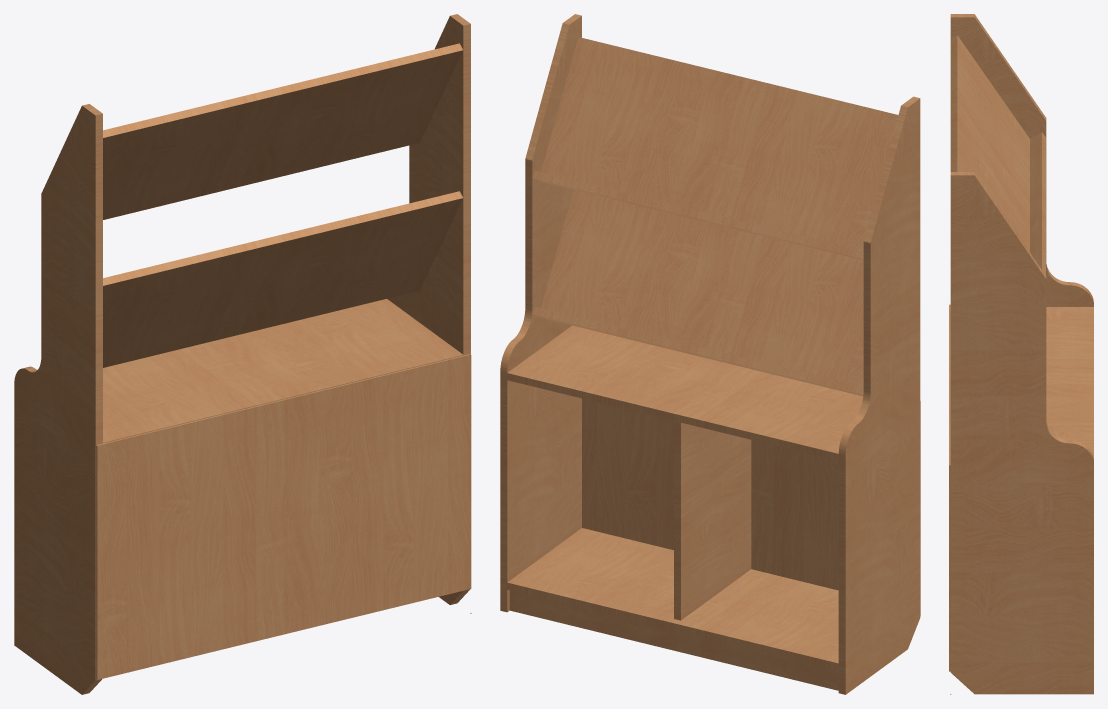
File: vitrina_knizhnaja_1_storonnjaja_s_tumboj_2_polki.glb
3 renders of one model, left to right at view 1: azimuth 30°, elevation 25°; view 2: azimuth 150°, elevation 25°; view 3: azimuth 270°, elevation 25°, orthographic. The views are drawn at different scales.
Visible parts, largest first — view 1: Shape_IndexedFaceSet.004_NON, Shape_IndexedFaceSet.006, Shape_IndexedFaceSet.002, Shape_IndexedFaceSet.003, Shape_IndexedFaceSet.008, Shape_IndexedFaceSet.005; view 2: Shape_IndexedFaceSet.002, Shape_IndexedFaceSet.003, Shape_IndexedFaceSet.006, Shape_IndexedFaceSet.004_NON, Shape_IndexedFaceSet.005, Shape_IndexedFaceSet.008, Shape_IndexedFaceSet.007, Shape_IndexedFaceSet.009, Shape_IndexedFaceSet.010, Shape_IndexedFaceSet.001, Shape_IndexedFaceSet; view 3: Shape_IndexedFaceSet.005, Shape_IndexedFaceSet.002, Shape_IndexedFaceSet.008, Shape_IndexedFaceSet.006, Shape_IndexedFaceSet, Shape_IndexedFaceSet.004_NON.
Boxes of the visible parts, x1=… form: Shape_IndexedFaceSet.004_NON: x1=96, y1=354, x2=471, y2=679; Shape_IndexedFaceSet.006: x1=14, y1=104, x2=102, y2=694; Shape_IndexedFaceSet.002: x1=103, y1=43, x2=463, y2=219; Shape_IndexedFaceSet.003: x1=103, y1=191, x2=462, y2=367; Shape_IndexedFaceSet.008: x1=103, y1=299, x2=463, y2=443; Shape_IndexedFaceSet.005: x1=387, y1=14, x2=470, y2=604; Shape_IndexedFaceSet.002: x1=540, y1=37, x2=898, y2=260; Shape_IndexedFaceSet.003: x1=540, y1=190, x2=863, y2=396; Shape_IndexedFaceSet.006: x1=838, y1=96, x2=920, y2=694; Shape_IndexedFaceSet.004_NON: x1=582, y1=398, x2=920, y2=615; Shape_IndexedFaceSet.005: x1=500, y1=14, x2=581, y2=612; Shape_IndexedFaceSet.008: x1=507, y1=325, x2=863, y2=460; Shape_IndexedFaceSet.007: x1=507, y1=528, x2=838, y2=670; Shape_IndexedFaceSet.009: x1=674, y1=421, x2=751, y2=620; Shape_IndexedFaceSet.010: x1=509, y1=590, x2=838, y2=690; Shape_IndexedFaceSet.001: x1=532, y1=306, x2=863, y2=395; Shape_IndexedFaceSet: x1=532, y1=170, x2=863, y2=259; Shape_IndexedFaceSet.005: x1=950, y1=172, x2=1093, y2=694; Shape_IndexedFaceSet.002: x1=951, y1=35, x2=1029, y2=251; Shape_IndexedFaceSet.008: x1=1046, y1=307, x2=1093, y2=459; Shape_IndexedFaceSet.006: x1=950, y1=14, x2=1093, y2=306; Shape_IndexedFaceSet: x1=1030, y1=132, x2=1045, y2=274; Shape_IndexedFaceSet.004_NON: x1=949, y1=304, x2=950, y2=671.
Bounding box in the file's own units: 801 × 1201 × 304.
Materials: 12 (11 with a texture image).
